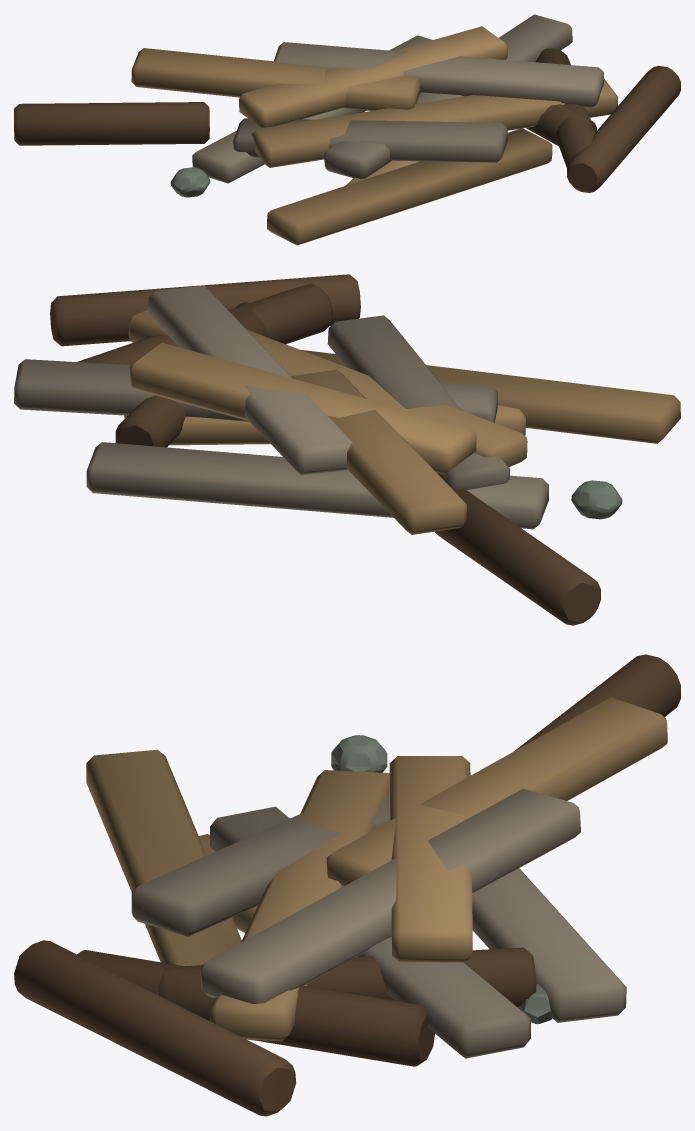
The model's file is timber_lagging_b.glb.
3 renders of one model, top to bottom at view 1: azimuth 30°, elevation 25°; view 2: azimuth 150°, elevation 25°; view 3: azimuth 270°, elevation 25°, orthographic. The views are drawn at different scales.
Visible parts, largest first — view 1: Surface; view 2: Surface; view 3: Surface.
Boxes of the visible parts, x1,y1,x2,y2 form: Surface: (14,14,680,245); Surface: (14,274,680,625); Surface: (14,654,680,1116).
Bounding box in the file's own units: 4.2 × 0.5055 × 2.81.
